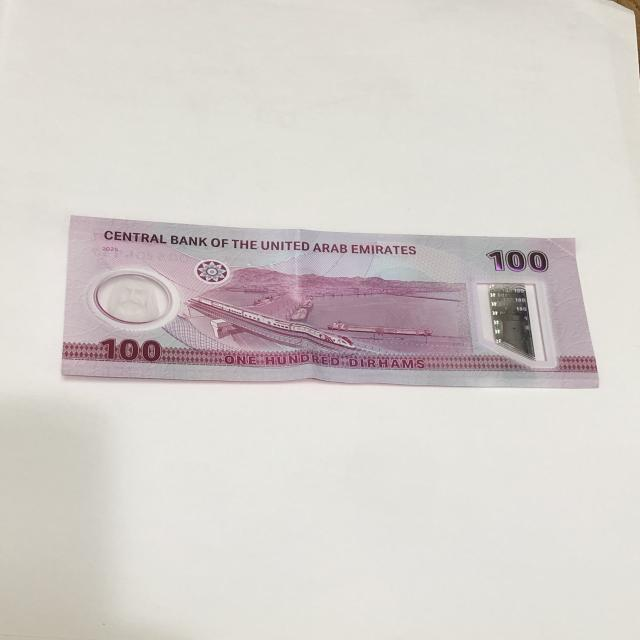100_AED: (64, 219, 607, 385)
